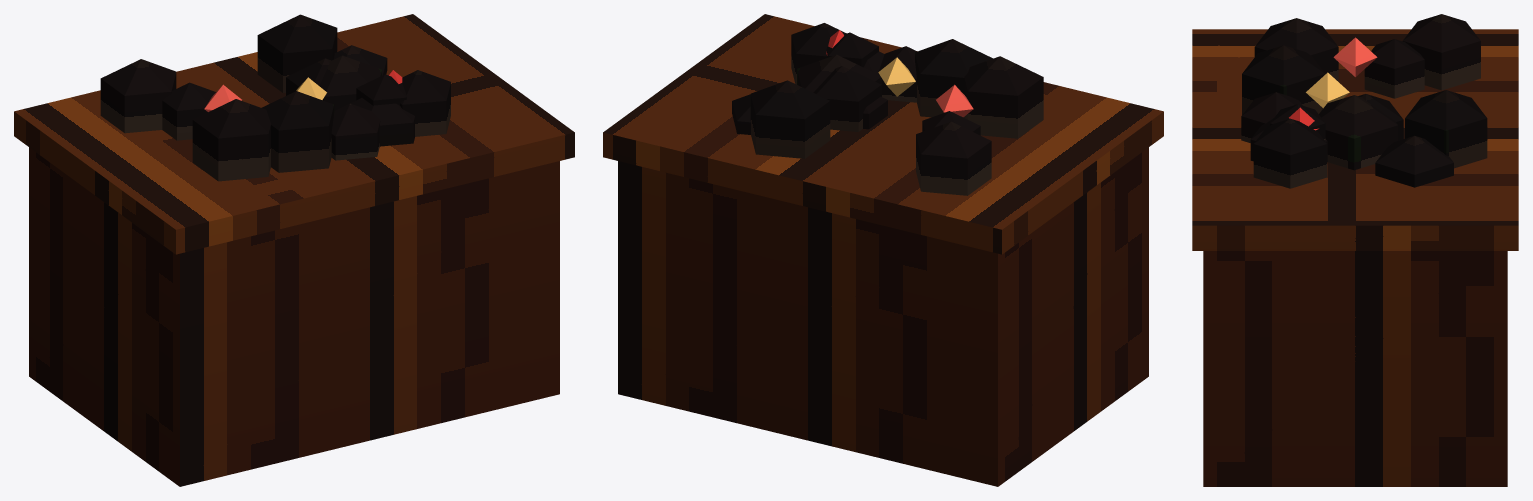
The model's file is coal_bin.glb.
3 views of the same model, side by side, from view 1: azimuth 30°, elevation 25°; view 2: azimuth 150°, elevation 25°; view 3: azimuth 270°, elevation 25° (orthographic).
Visible parts, largest first — view 1: coal_bin; view 2: coal_bin; view 3: coal_bin.
Boxes of the visible parts, x1,y1,x2,y2 form: coal_bin: (14,14,574,486); coal_bin: (603,14,1163,486); coal_bin: (1192,14,1518,486).
Bounding box in the file's own units: 0.84 × 0.6623 × 0.59.
3 materials, 2 textured.
